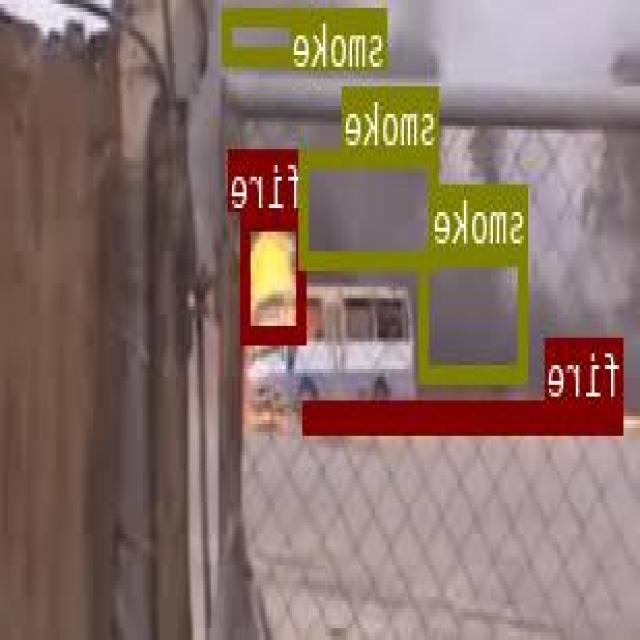fire: (307, 397, 624, 430), (244, 209, 307, 339)
smoke: (300, 150, 440, 264), (421, 246, 529, 377), (225, 5, 389, 60)
